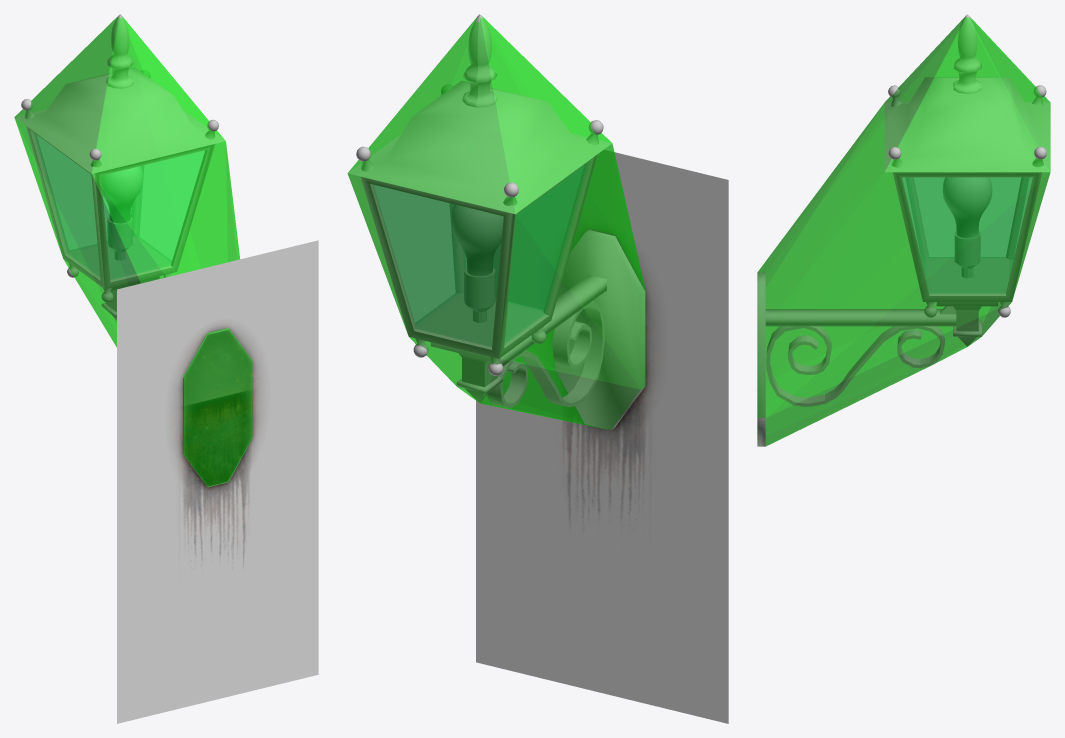
Rendered from Lamp_C.FBX.
3 renders of one model, left to right at view 1: azimuth 30°, elevation 25°; view 2: azimuth 150°, elevation 25°; view 3: azimuth 270°, elevation 25°, orthographic. The views are drawn at different scales.
Visible parts, largest first — view 1: Decal, Lamp_C_Wall_COL, Lamp_C_Wall_LOD0, Glass; view 2: Decal, Lamp_C_Wall_COL, Lamp_C_Wall_LOD0, Glass; view 3: Lamp_C_Wall_COL, Lamp_C_Wall_LOD0, Glass.
Part boxes in pixels (left/top/right/bottom): Decal: left=117, top=240, right=318, bottom=723; Lamp_C_Wall_COL: left=14, top=16, right=252, bottom=486; Lamp_C_Wall_LOD0: left=15, top=14, right=252, bottom=486; Glass: left=35, top=134, right=204, bottom=278; Decal: left=476, top=150, right=728, bottom=723; Lamp_C_Wall_COL: left=347, top=15, right=645, bottom=430; Lamp_C_Wall_LOD0: left=348, top=14, right=645, bottom=430; Glass: left=374, top=164, right=586, bottom=345; Lamp_C_Wall_COL: left=757, top=16, right=1050, bottom=446; Lamp_C_Wall_LOD0: left=757, top=14, right=1050, bottom=446; Glass: left=902, top=177, right=1032, bottom=292.
Size of what is drawn, in the model's own units: 29.23 by 84.96 by 34.33.
